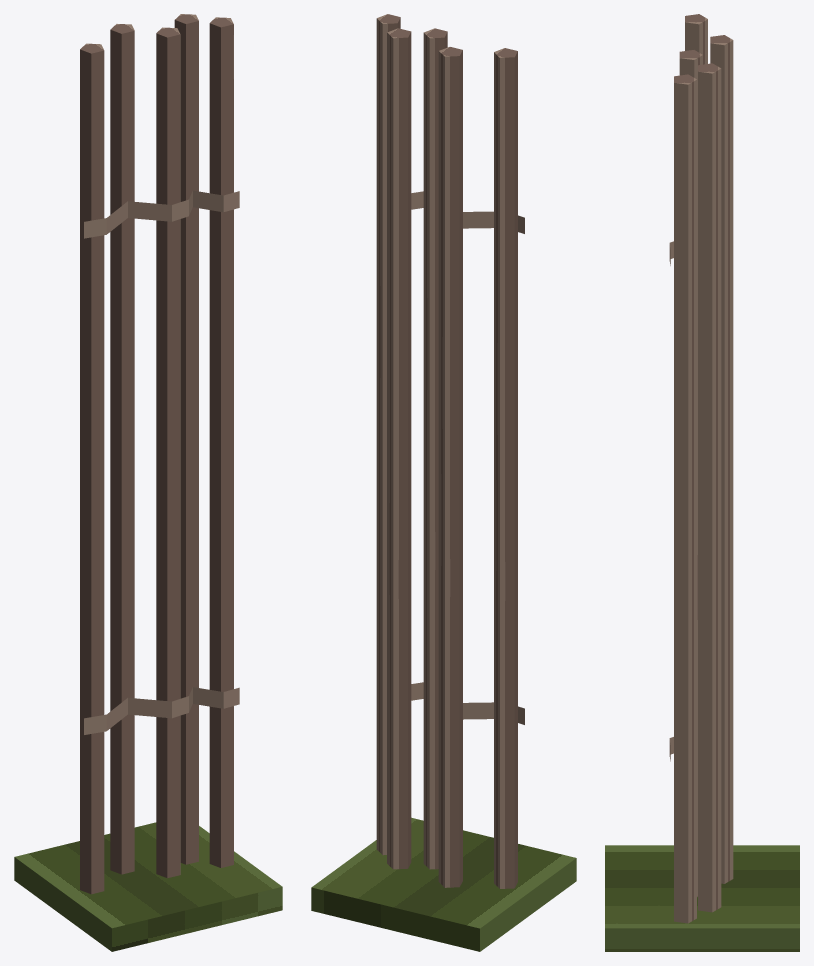
File: wall_497x01.gltf
3 views of the same model, side by side, from view 1: azimuth 30°, elevation 25°; view 2: azimuth 150°, elevation 25°; view 3: azimuth 270°, elevation 25° (orthographic).
Visible parts, largest first — view 1: wall_497x01; view 2: wall_497x01; view 3: wall_497x01.
Part boxes in pixels (left/top/right/bottom): wall_497x01: left=14, top=14, right=282, bottom=951; wall_497x01: left=311, top=14, right=576, bottom=951; wall_497x01: left=605, top=14, right=799, bottom=951.
Size of the model in its own units: 1.01 by 4.89 by 1.
1 material, 1 textured.
